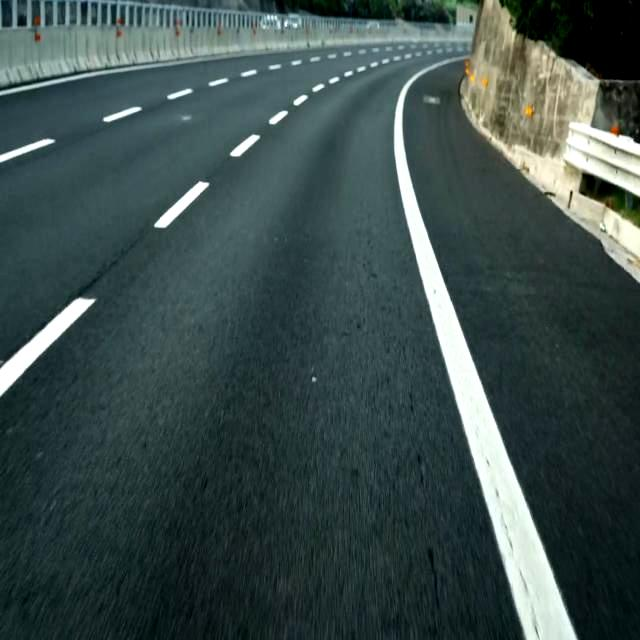lane: (397, 56, 570, 639), (1, 299, 92, 395), (155, 181, 208, 227), (0, 138, 53, 162), (231, 135, 259, 155), (103, 106, 140, 121), (270, 111, 287, 123)
road: (1, 53, 523, 638), (404, 63, 639, 639)
